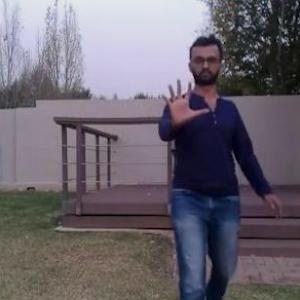follow_hand: (159, 74, 212, 129)
